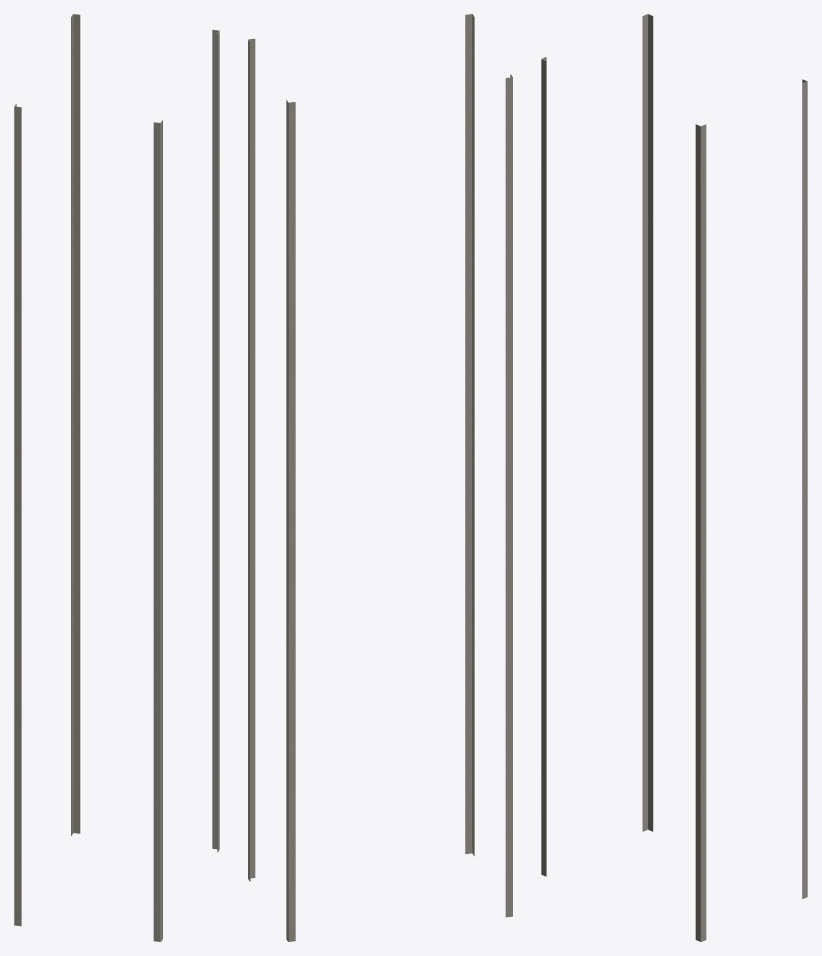
Rendered from shelf_0301_t50_h2400_w600.glb.
The picture shows the model from 3 angles, left to right: view 1: azimuth 30°, elevation 25°; view 2: azimuth 150°, elevation 25°; view 3: azimuth 270°, elevation 25°; orthographic projection. The views are drawn at different scales.
Parts seen in each view (by area): view 1: shelf_0301_t50_h2400_w600; view 2: shelf_0301_t50_h2400_w600; view 3: shelf_0301_t50_h2400_w600.
Boxes of the visible parts, box(x1,y1,x2,y2) form: shelf_0301_t50_h2400_w600: box(14, 14, 219, 941); shelf_0301_t50_h2400_w600: box(248, 14, 512, 941); shelf_0301_t50_h2400_w600: box(541, 14, 807, 941).
Size of the model in its own units: 0.7101 by 2.4 by 0.7101.
1 material, 1 textured.
